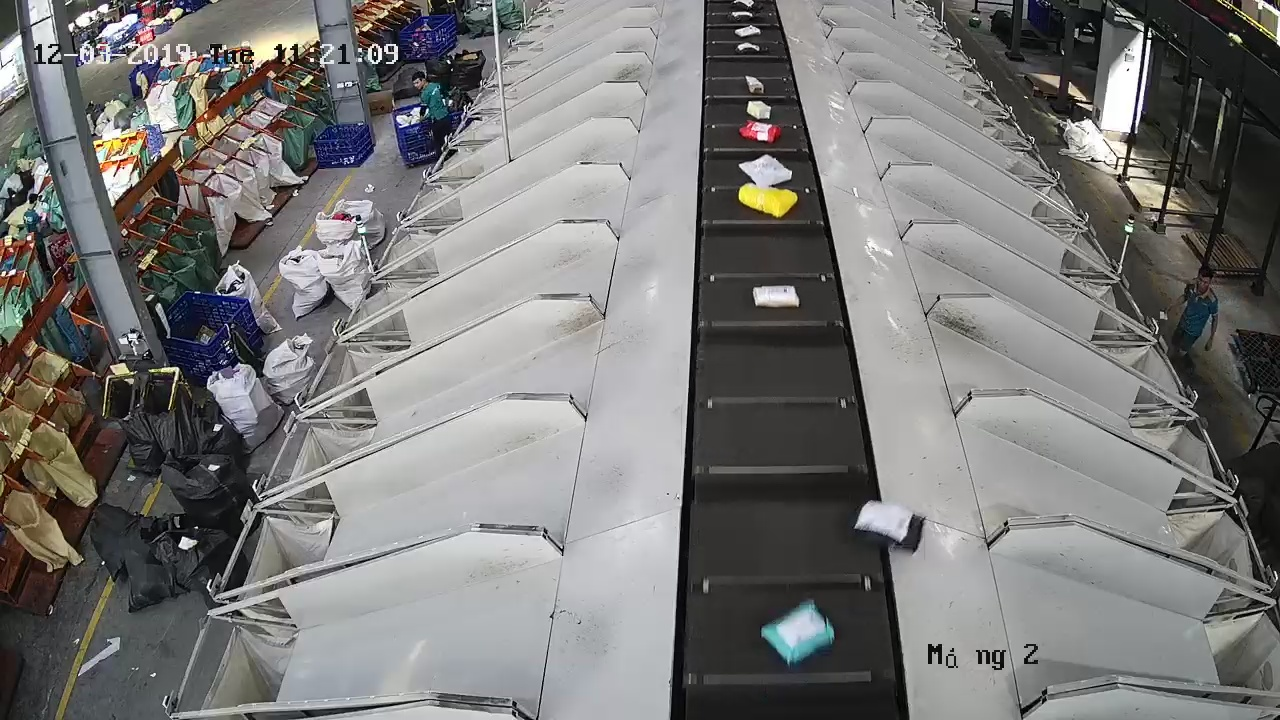parcel: (759, 600, 836, 669), (849, 498, 927, 555), (752, 284, 800, 308)
